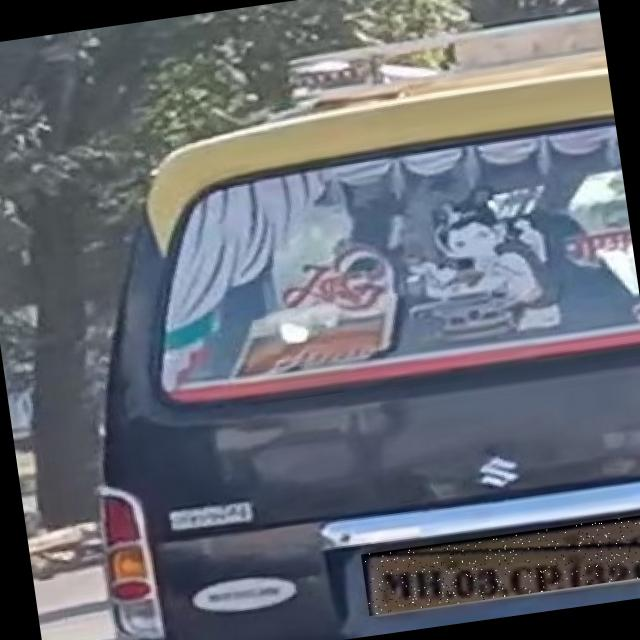Plate: (362, 514, 640, 616)
